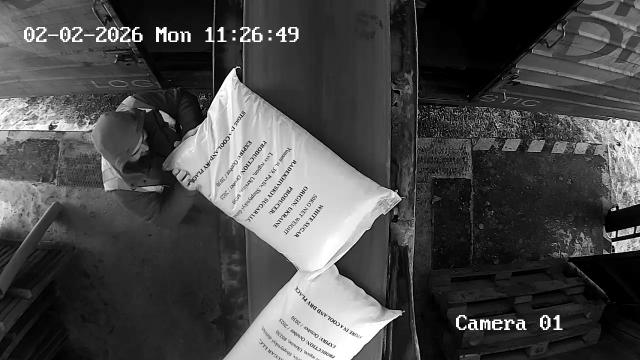bag: (164, 68, 402, 282), (222, 260, 402, 360)
